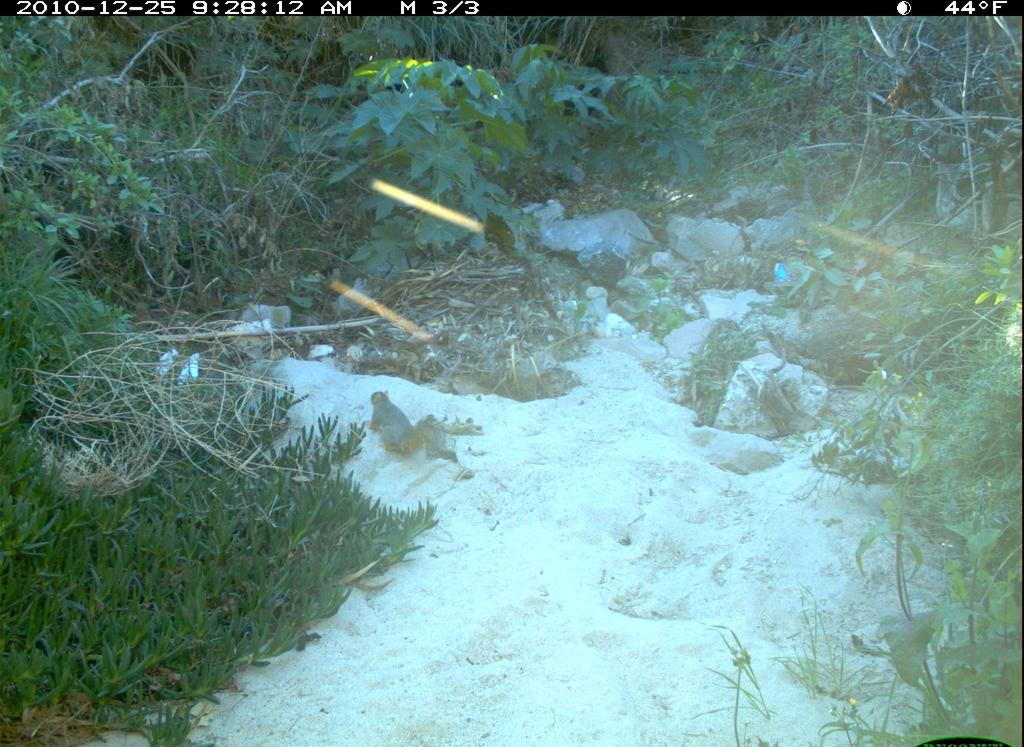squirrel: (367, 385, 457, 473)
